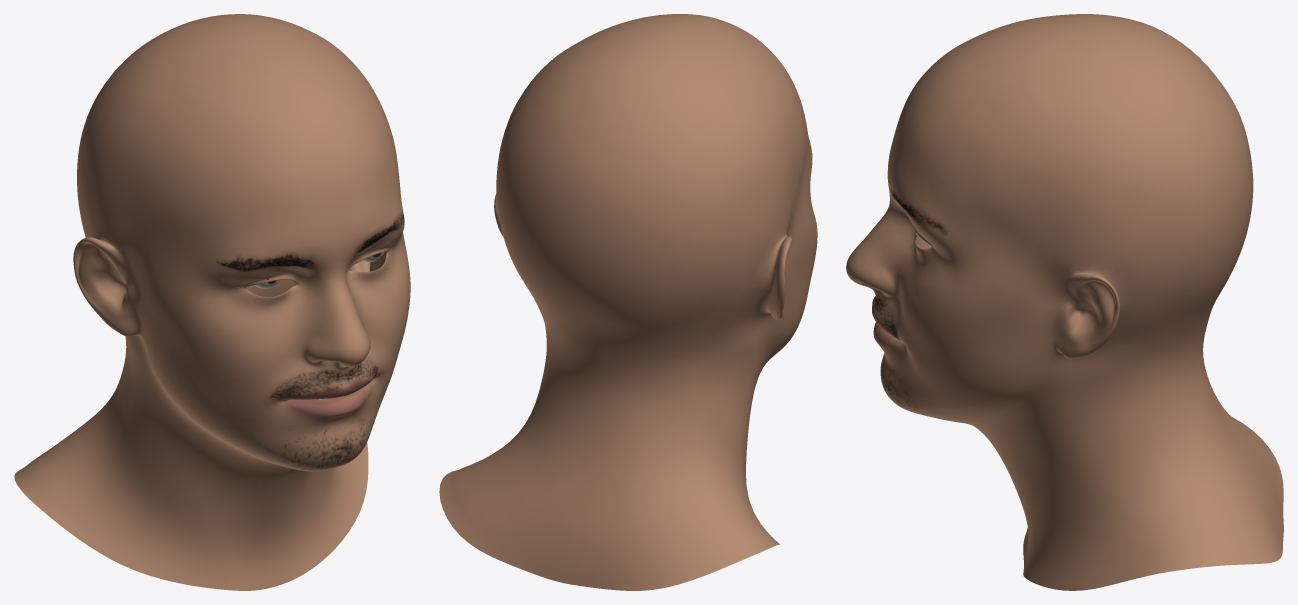
Rendered from head-groomed-portable.glb.
3 views of the same model, side by side, from view 1: azimuth 30°, elevation 25°; view 2: azimuth 150°, elevation 25°; view 3: azimuth 270°, elevation 25° (orthographic). The views are drawn at different scales.
Visible parts, largest first — view 1: Ubaid_FaceBuilder_Head_Study; view 2: Ubaid_FaceBuilder_Head_Study; view 3: Ubaid_FaceBuilder_Head_Study.
Part boxes in pixels (<box>): Ubaid_FaceBuilder_Head_Study: <box>14,14,410,590</box>; Ubaid_FaceBuilder_Head_Study: <box>439,14,817,590</box>; Ubaid_FaceBuilder_Head_Study: <box>846,14,1283,590</box>.
Size of the model in its own units: 0.1915 by 0.2968 by 0.2195.
Materials: 8 (1 with a texture image).
